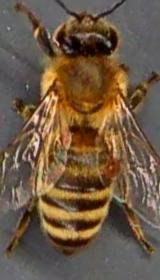varroa_mite: (98, 150, 126, 184)
